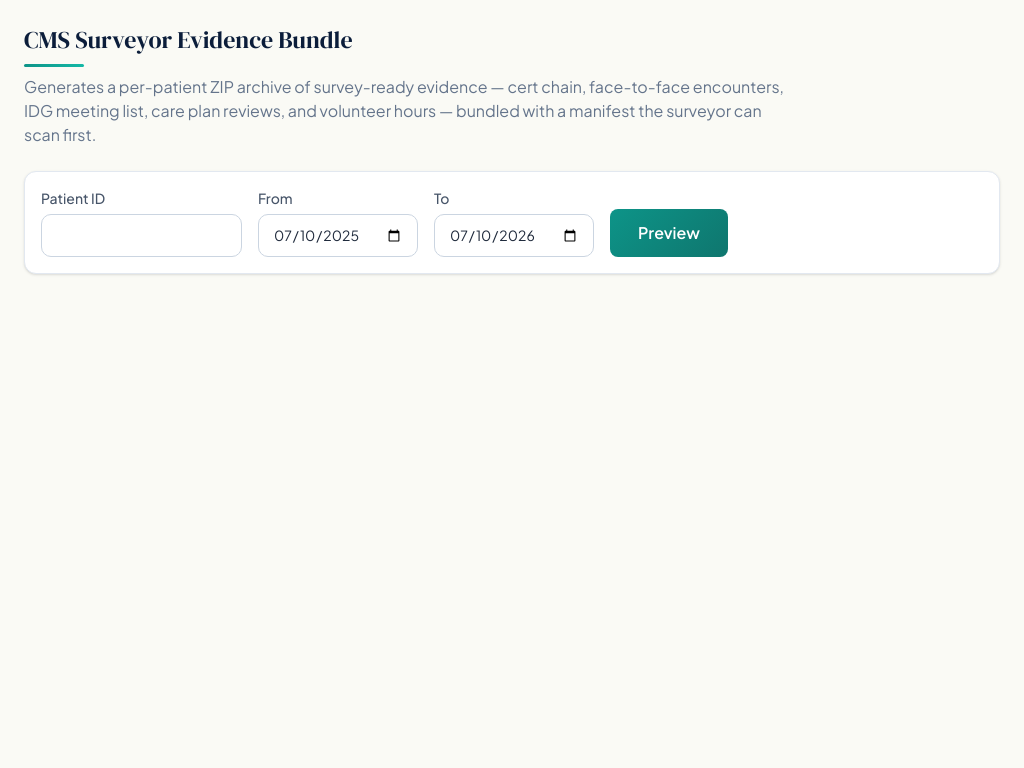
SurveyorBundlePage › permission gating › disables Download Bundle with a permission tooltip when the user lacks compliance:surveyor_export
Type "100" into the number field labelled "Patient ID" at (142, 236), box [41,214,242,257]
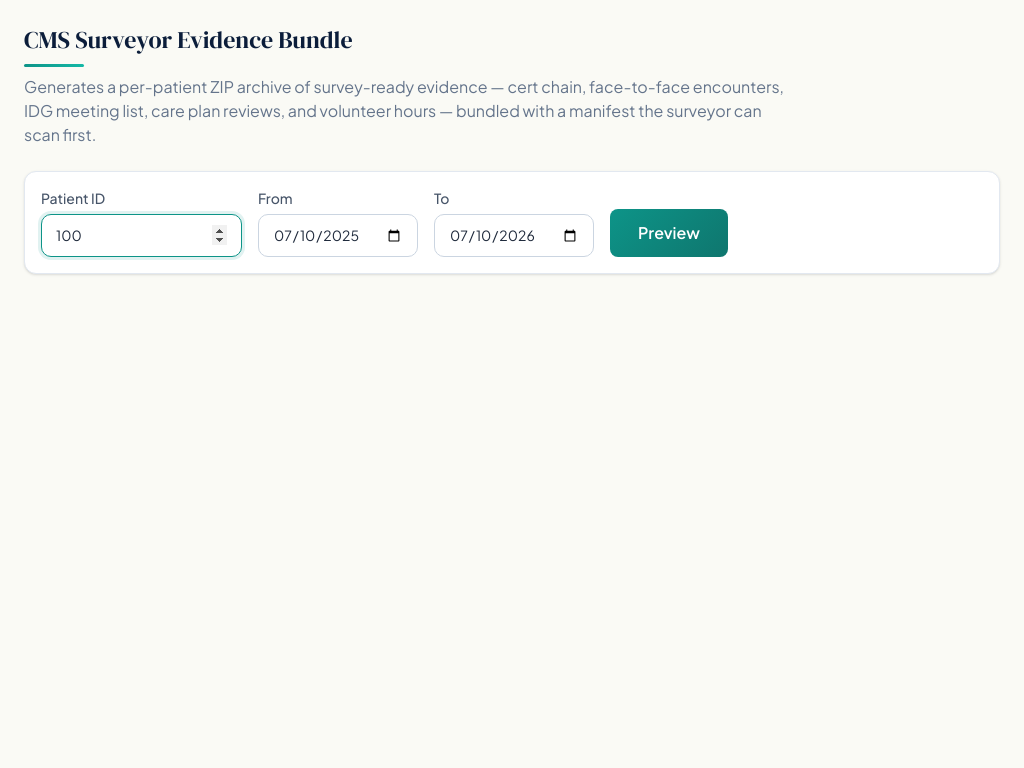
Click the button "Preview" at (669, 233), box [610,209,728,257]
(page scrolled)
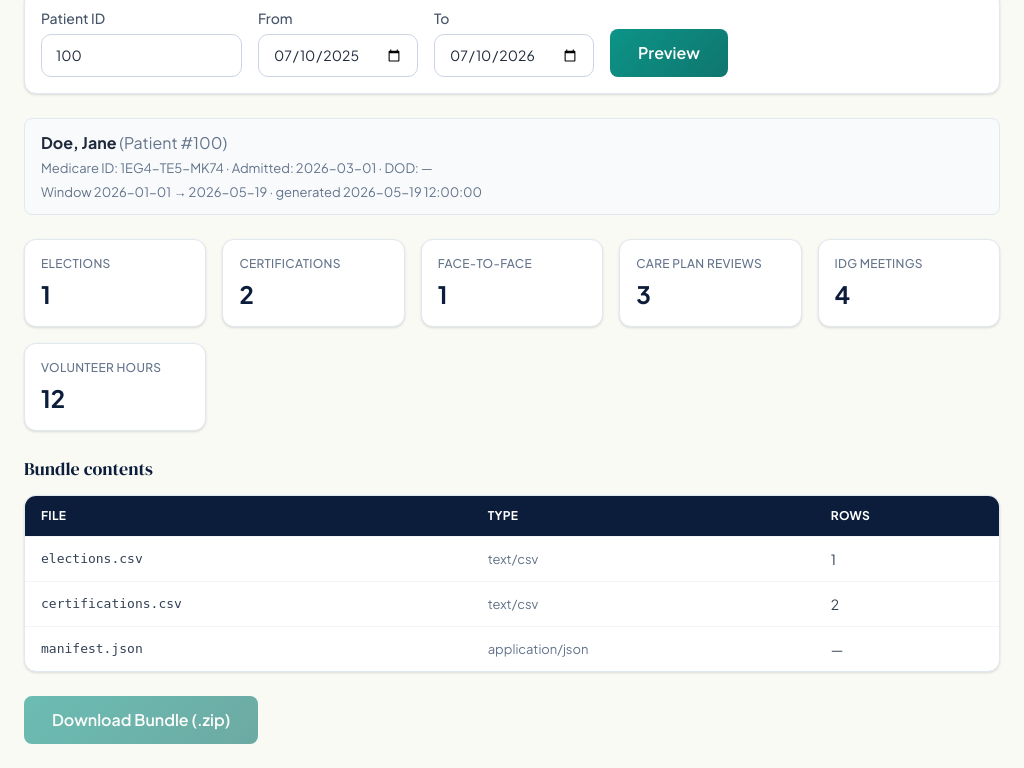
Result: the button "Download Bundle (.zip)" is disabled at [24,696,258,744]
